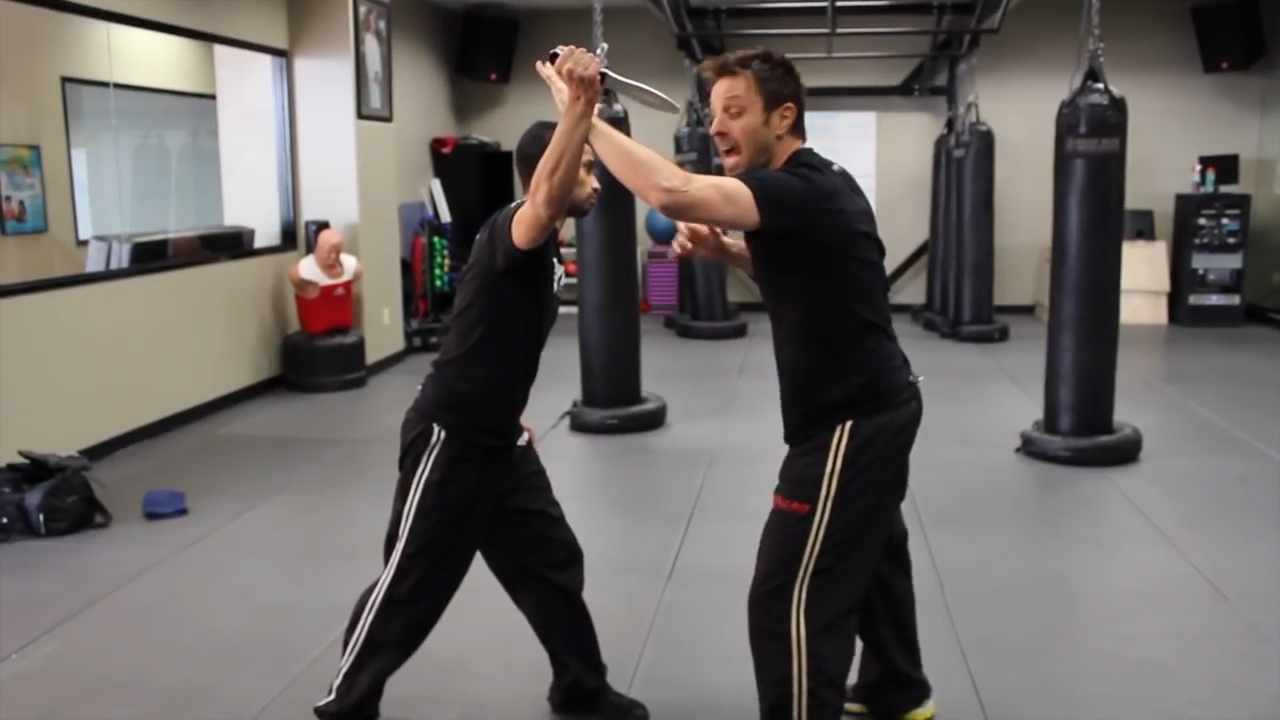knife: (543, 40, 684, 116)
